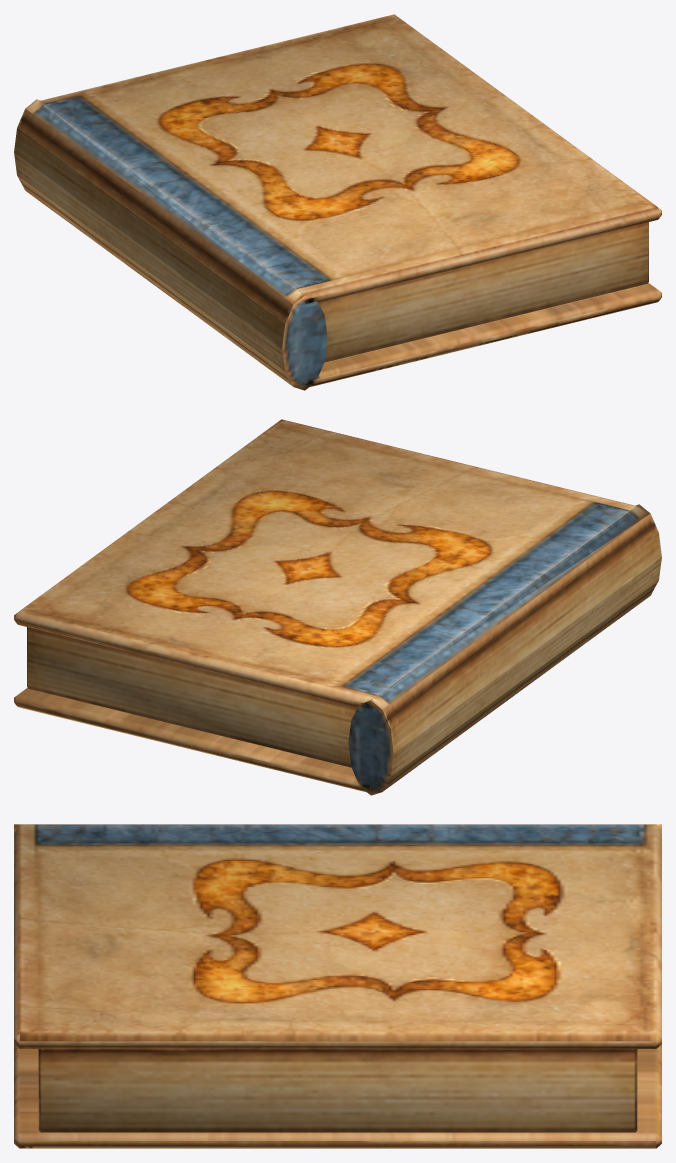
Rendered from item_mm9_10304.glb.
The picture shows the model from 3 angles, top to bottom: view 1: azimuth 30°, elevation 25°; view 2: azimuth 150°, elevation 25°; view 3: azimuth 270°, elevation 25°; orthographic projection. The views are drawn at different scales.
Parts seen in each view (by area): view 1: d10304; view 2: d10304; view 3: d10304.
Part boxes in pixels (x1,y1,x2,y2): d10304: [14, 14, 661, 390]; d10304: [14, 419, 661, 795]; d10304: [14, 824, 661, 1148].
Bounding box in the file's own units: 53.32 × 12.68 × 64.8.
1 material, 1 textured.
